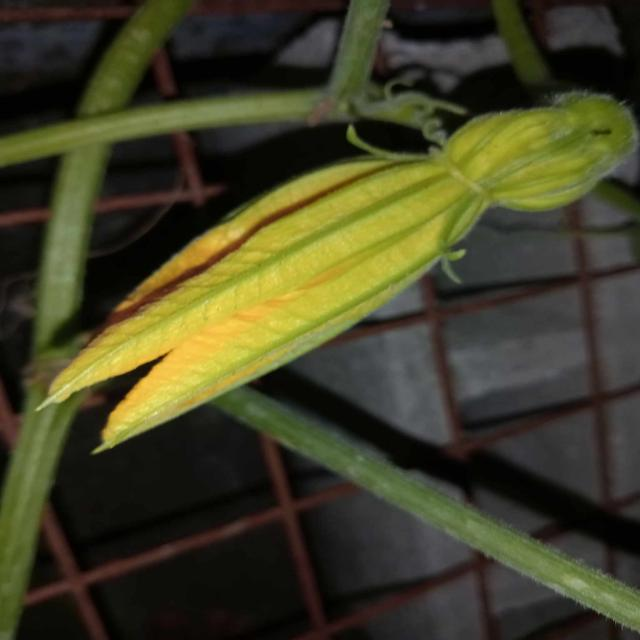flower: (22, 75, 640, 474)
